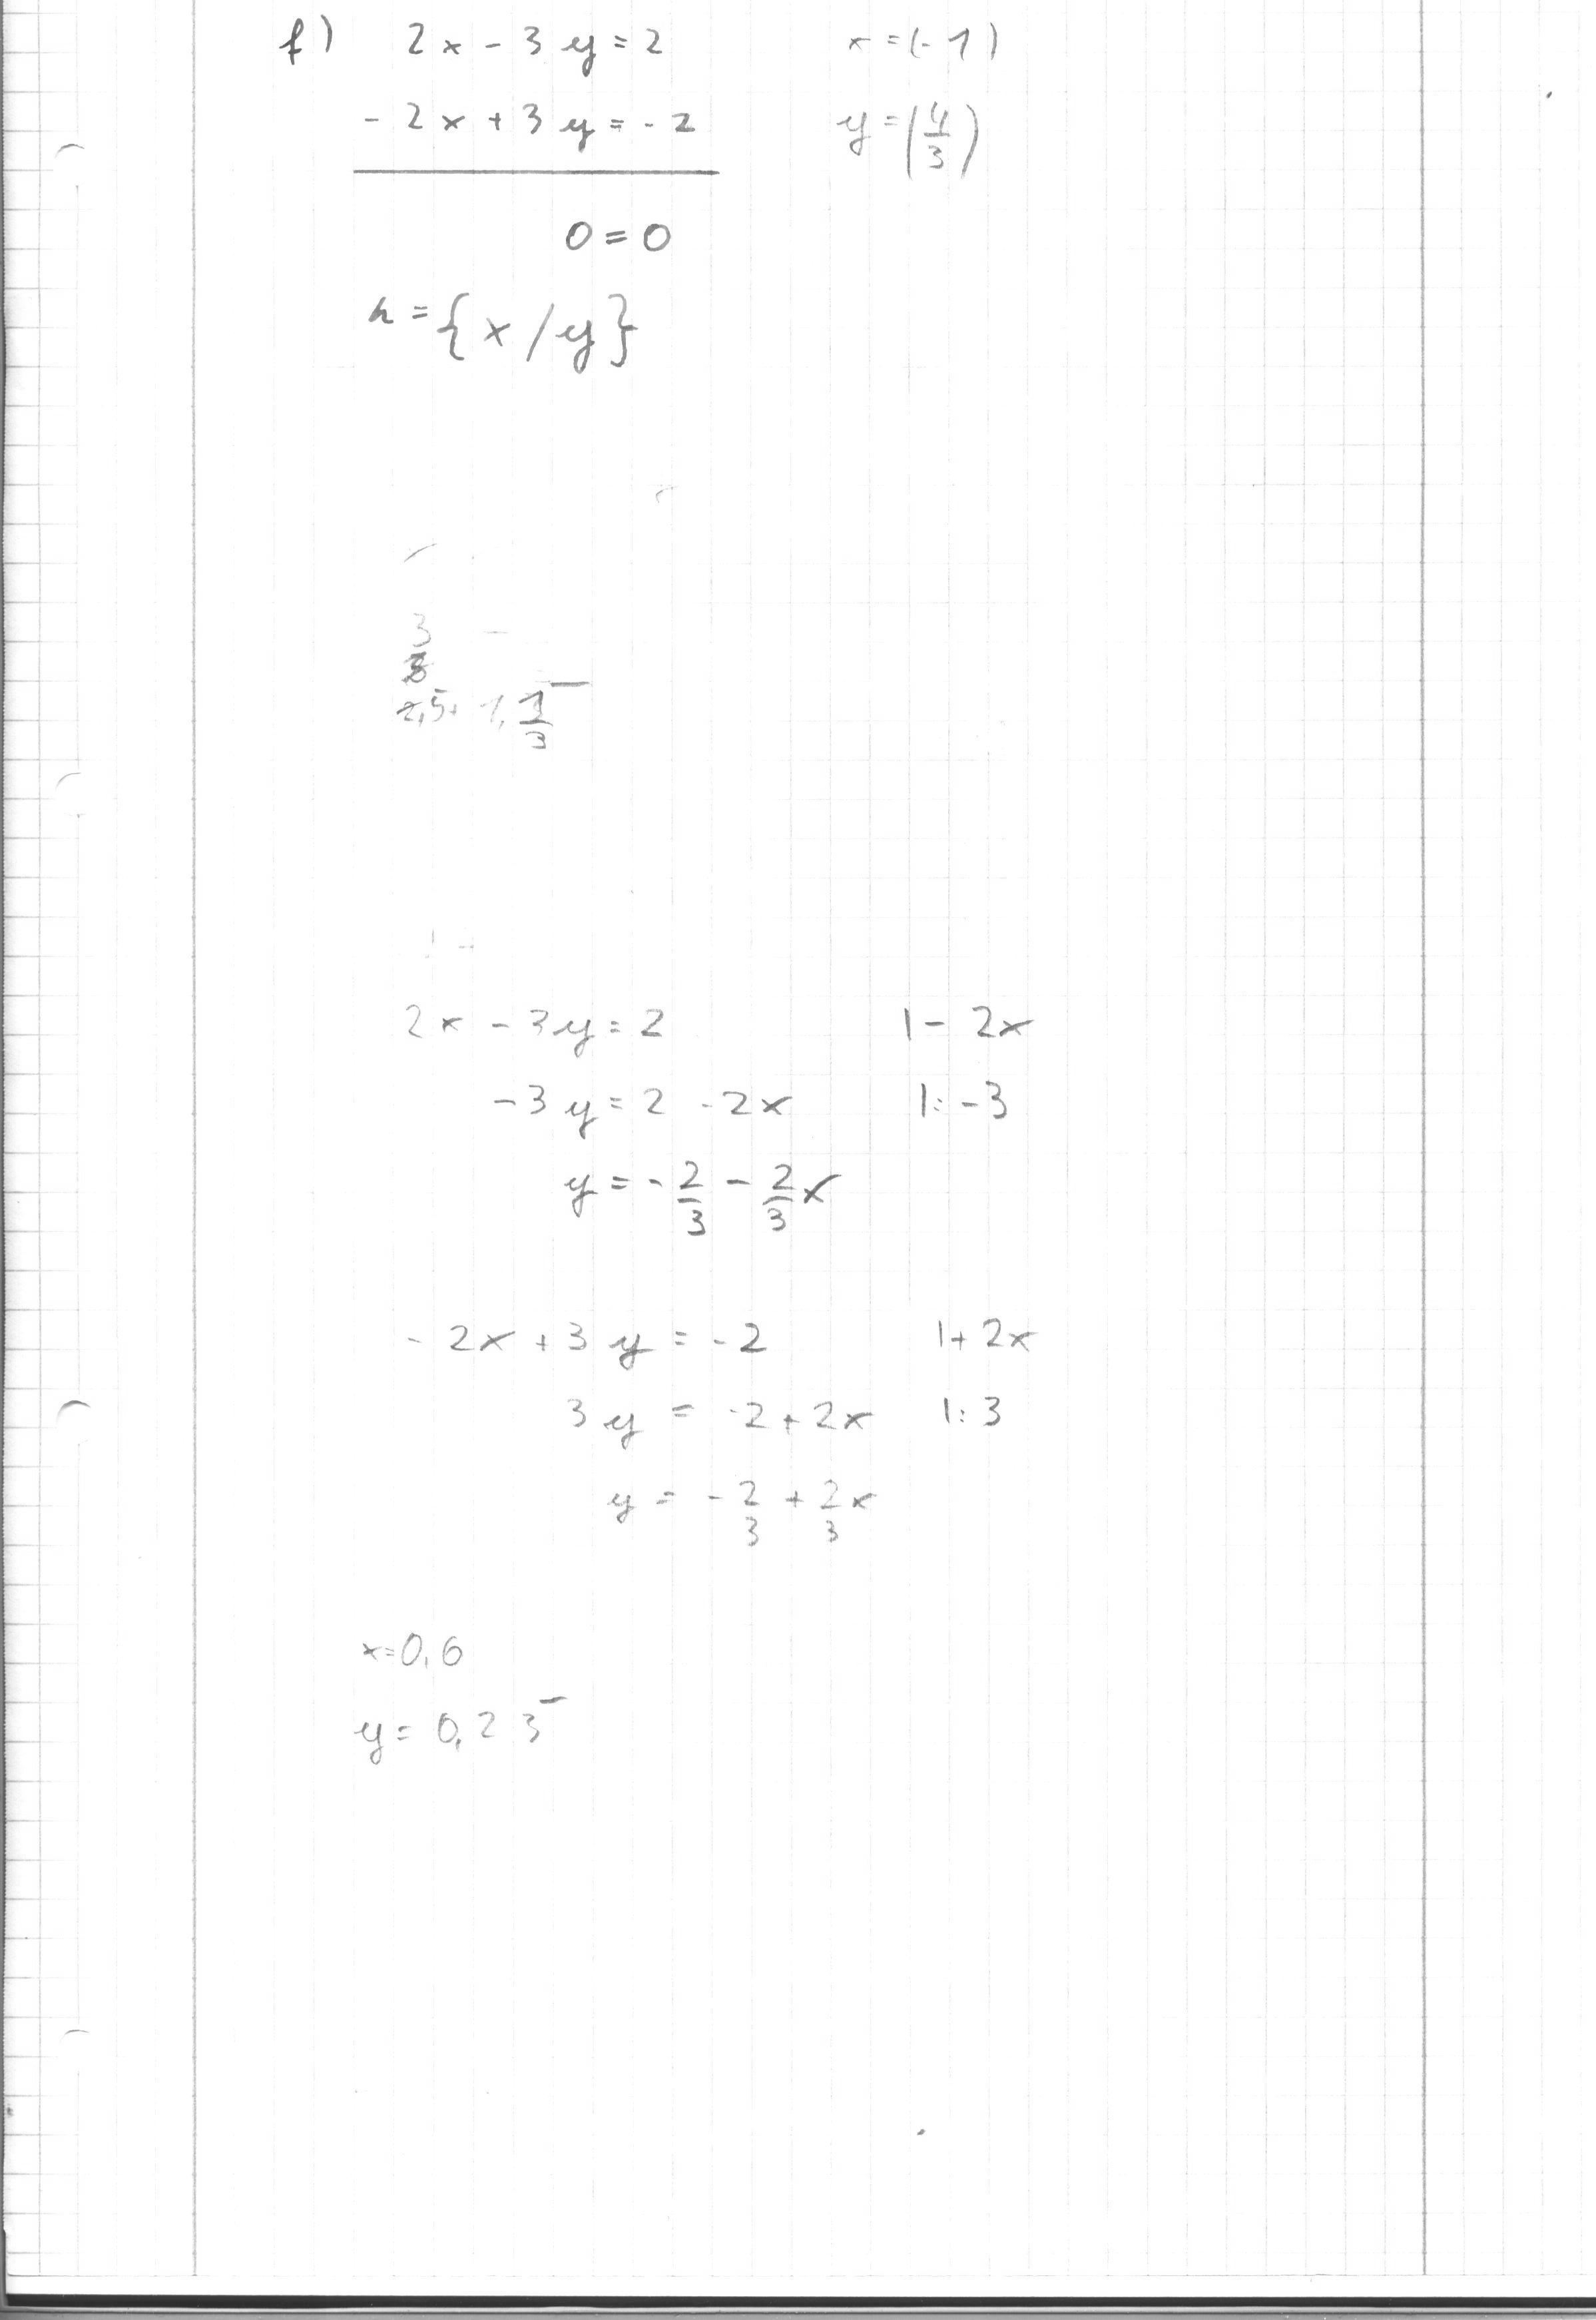word: (260, 5, 747, 190), (332, 276, 666, 390), (535, 202, 693, 271)
